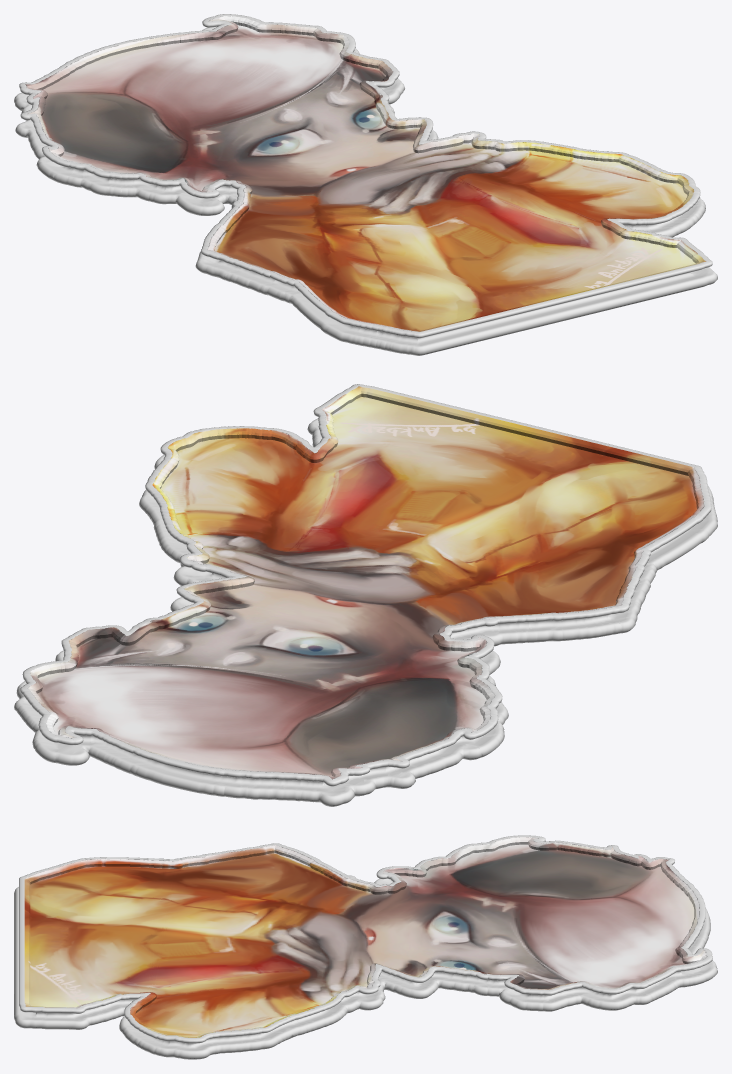
Rendered from badge.glb.
The picture shows the model from 3 angles, top to bottom: view 1: azimuth 30°, elevation 25°; view 2: azimuth 150°, elevation 25°; view 3: azimuth 270°, elevation 25°; orthographic projection. The views are drawn at different scales.
Visible parts, largest first — view 1: badge; view 2: badge; view 3: badge.
Part boxes in pixels (x1,y1,x2,y2): badge: (14,14,717,355); badge: (14,384,717,806); badge: (14,835,717,1059).
Bounding box in the file's own units: 1.31 × 0.0664 × 1.86.
Materials: 3 (2 with a texture image).
